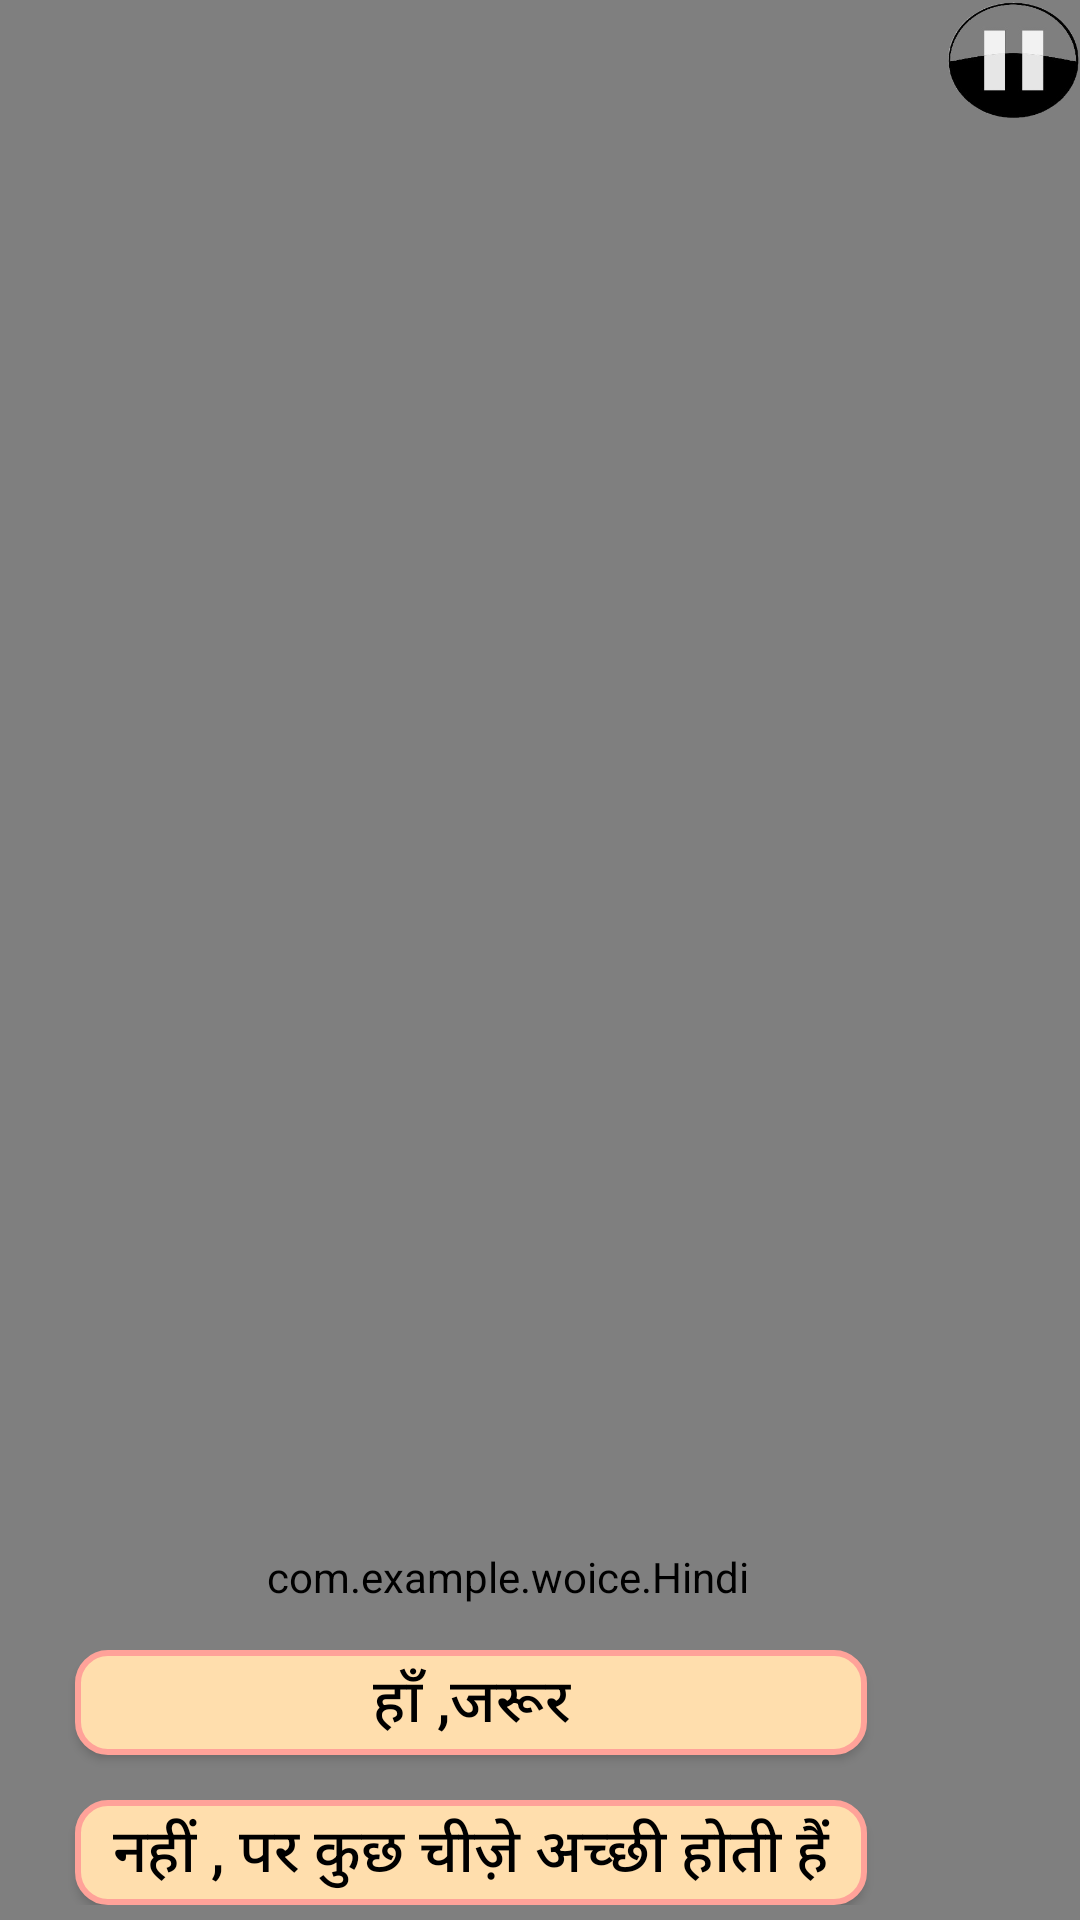

Screen size 1080 x 1920. Icon name, then its center in pixels as point (x, y):
pauseicon: point (1014, 60)
